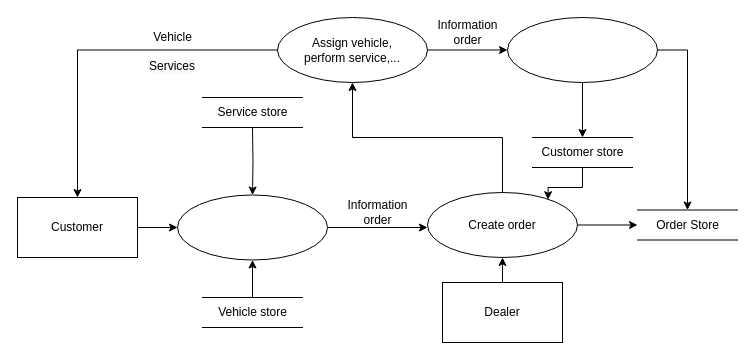
Image size: 755x360. Some labels were removed from this diagram. The shapes that lost their labels are listed below. From the top down, each one's centre as x and y in pixels, then its label:
At point 582,49: "Update order status".
At point 252,227: "Order Vehicle, Order Service".
